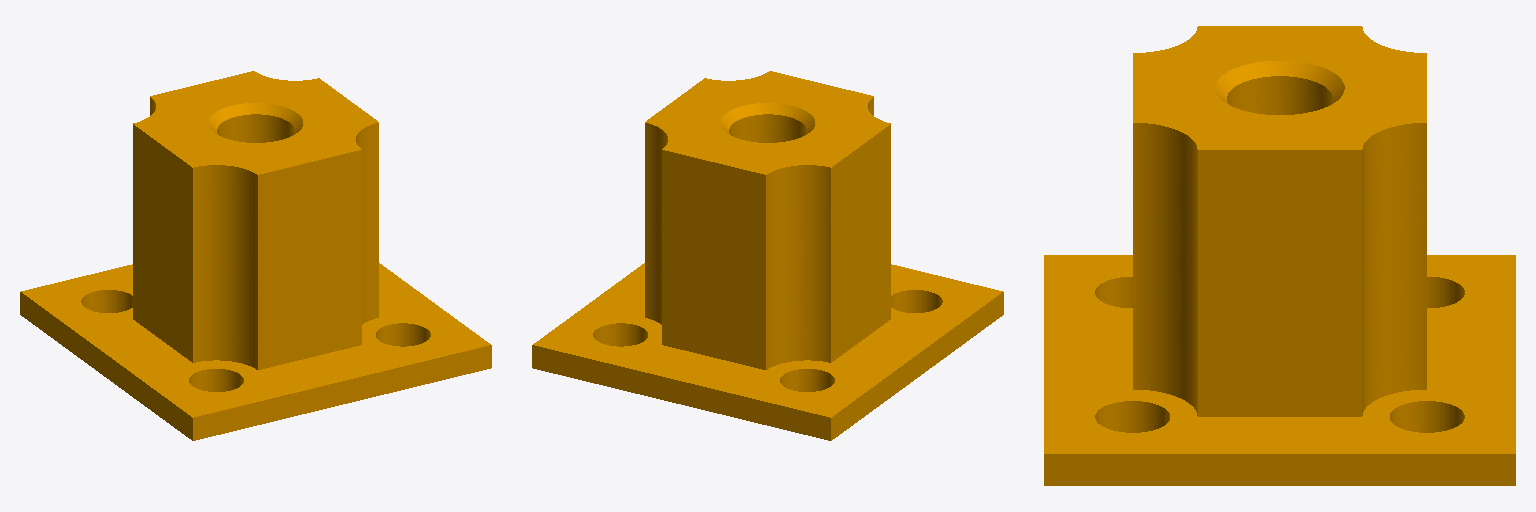
The robot description file, URDF, robot "industreal_tray_insert_round_peg_8mm":
<?xml version="1.0"?>
<robot name="industreal_tray_insert_round_peg_8mm">
    <link name="industreal_tray_insert_round_peg_8mm">
        <visual>
            <geometry>
                <mesh filename="../mesh/industreal_pegs/industreal_tray_insert_round_peg_8mm.obj"/>
            </geometry>
        </visual>
        <collision>
            <geometry>
                <mesh filename="../mesh/industreal_pegs/industreal_tray_insert_round_peg_8mm.obj"/>
            </geometry>
            <sdf resolution="256"/>
        </collision>
    </link>
</robot>

--- Render facts (derived) ---
Views: 3 orthographic renders of the robot side by side, from view 1: azimuth 30°, elevation 25°; view 2: azimuth 150°, elevation 25°; view 3: azimuth 270°, elevation 25°.
Robot: industreal_tray_insert_round_peg_8mm — 1 links, 0 joints (none); root link industreal_tray_insert_round_peg_8mm; default pose: every joint at zero.
Links seen in each view (by area): view 1: industreal_tray_insert_round_peg_8mm; view 2: industreal_tray_insert_round_peg_8mm; view 3: industreal_tray_insert_round_peg_8mm.
Boxes of the visible links, <box> form: industreal_tray_insert_round_peg_8mm: <box>20,71,491,440</box>; industreal_tray_insert_round_peg_8mm: <box>532,71,1003,440</box>; industreal_tray_insert_round_peg_8mm: <box>1044,26,1515,485</box>.
Size in the robot's own frame: 0.04 by 0.04 by 0.028 metres.
Meshes: 1 distinct files referenced, 1 mesh visuals loaded (1 OBJ).